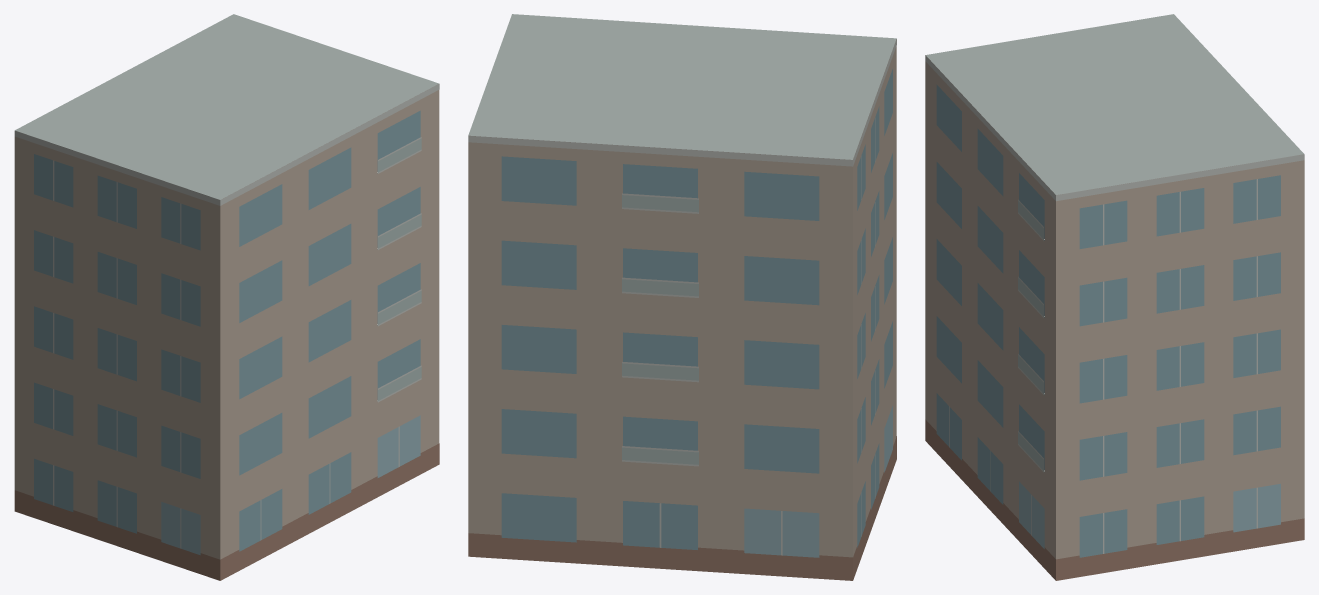
Rendered from survey-upis-32754072.glb.
The picture shows the model from 3 angles, left to right: view 1: azimuth 30°, elevation 25°; view 2: azimuth 150°, elevation 25°; view 3: azimuth 270°, elevation 25°; orthographic projection. The views are drawn at different scales.
Parts seen in each view (by area): view 1: survey-upis-32754072.tmp; view 2: survey-upis-32754072.tmp; view 3: survey-upis-32754072.tmp.
Part boxes in pixels (<box>): survey-upis-32754072.tmp: <box>14,14,439,580</box>; survey-upis-32754072.tmp: <box>468,14,896,580</box>; survey-upis-32754072.tmp: <box>925,14,1304,580</box>.
Size of the model in its own units: 15.62 by 15.5 by 13.82.
